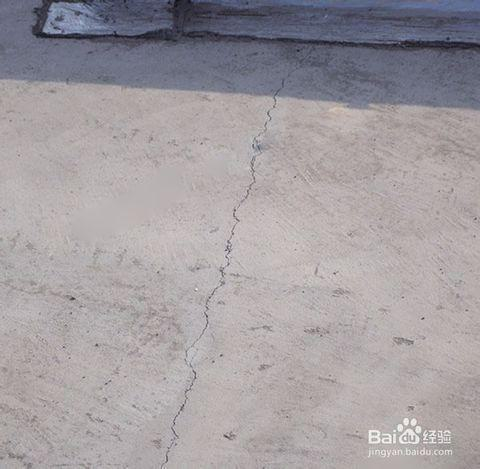Crack: (160, 65, 305, 469)
